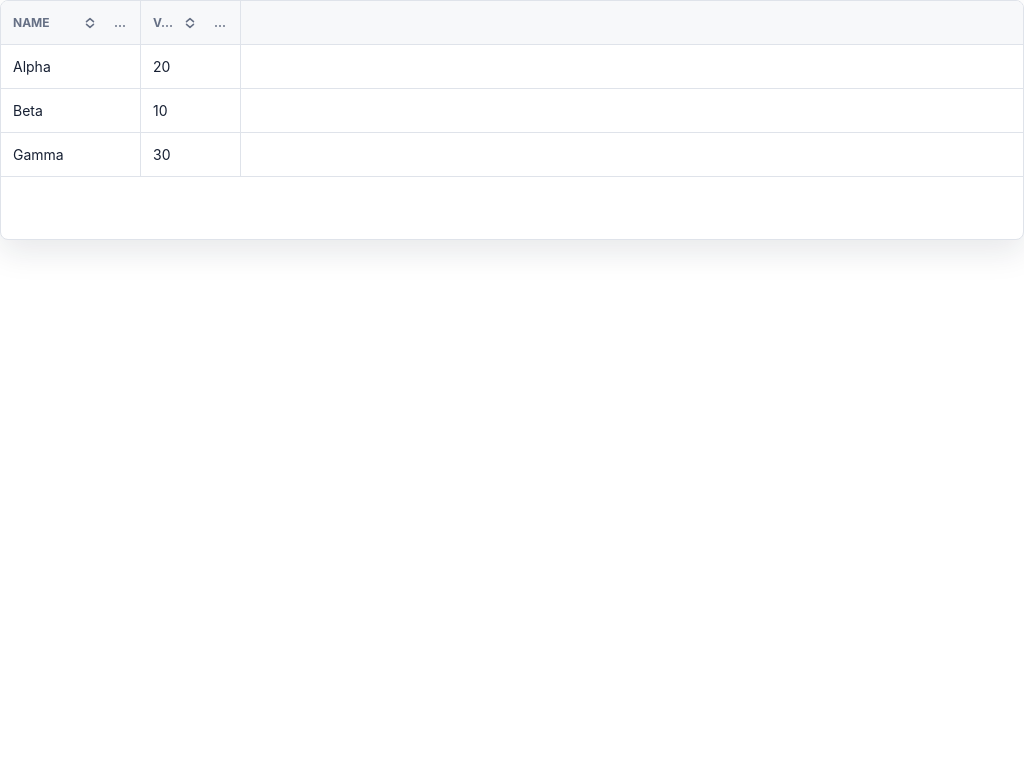
Test: VirtualTable › applies a number comparison filter from the column menu
Right-click the button named "sort value ascending" at (190, 22), box x1=178 y1=10 x2=202 y2=34
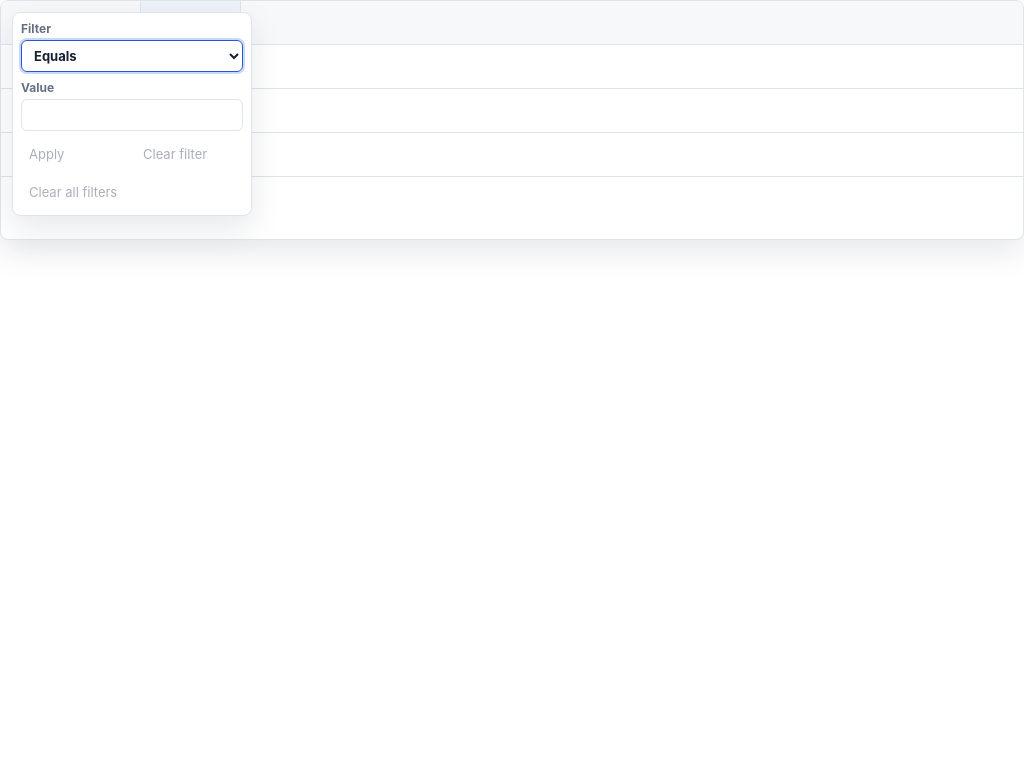
Select "Greater than or equal" in the dropdown labelled "Filter" at (132, 56), box x1=21 y1=40 x2=243 y2=72
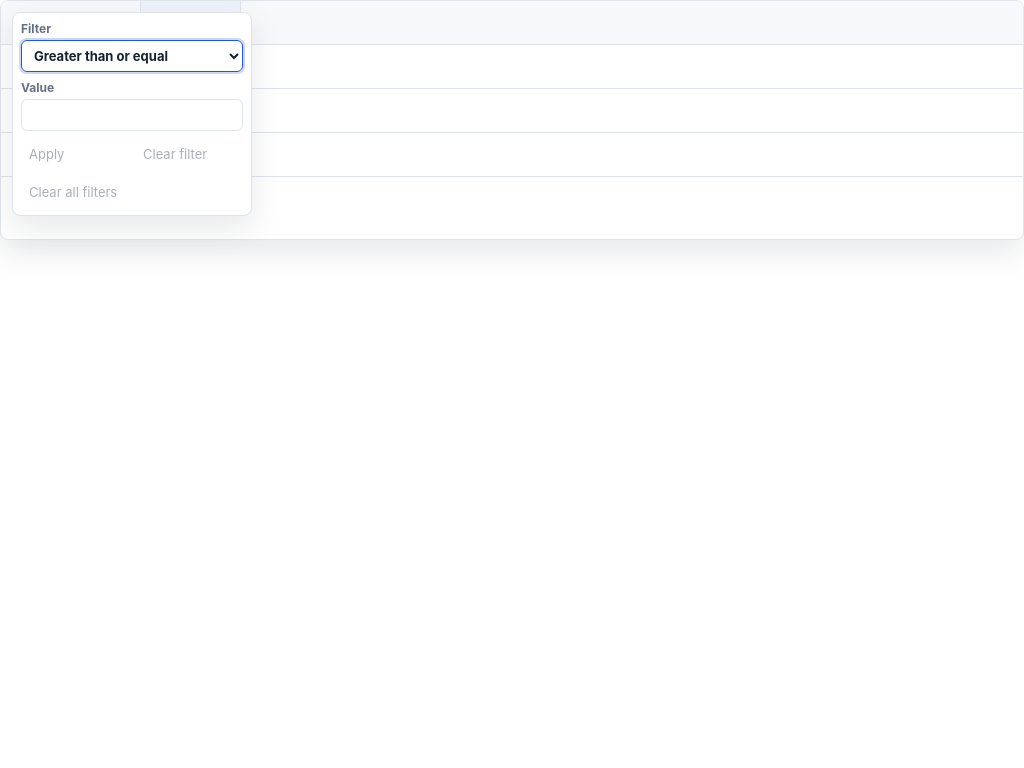
Type "20" into the number field labelled "Value" at (132, 115), box x1=21 y1=99 x2=243 y2=131
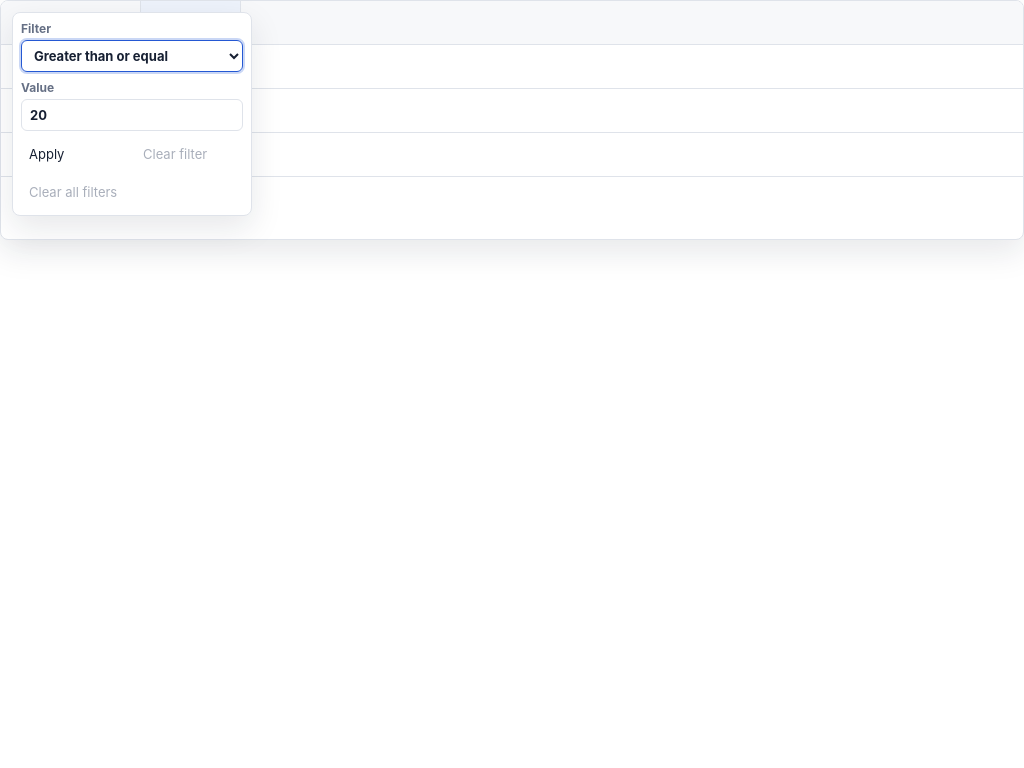
Click the button "Apply" at (75, 154), box x1=21 y1=139 x2=129 y2=169
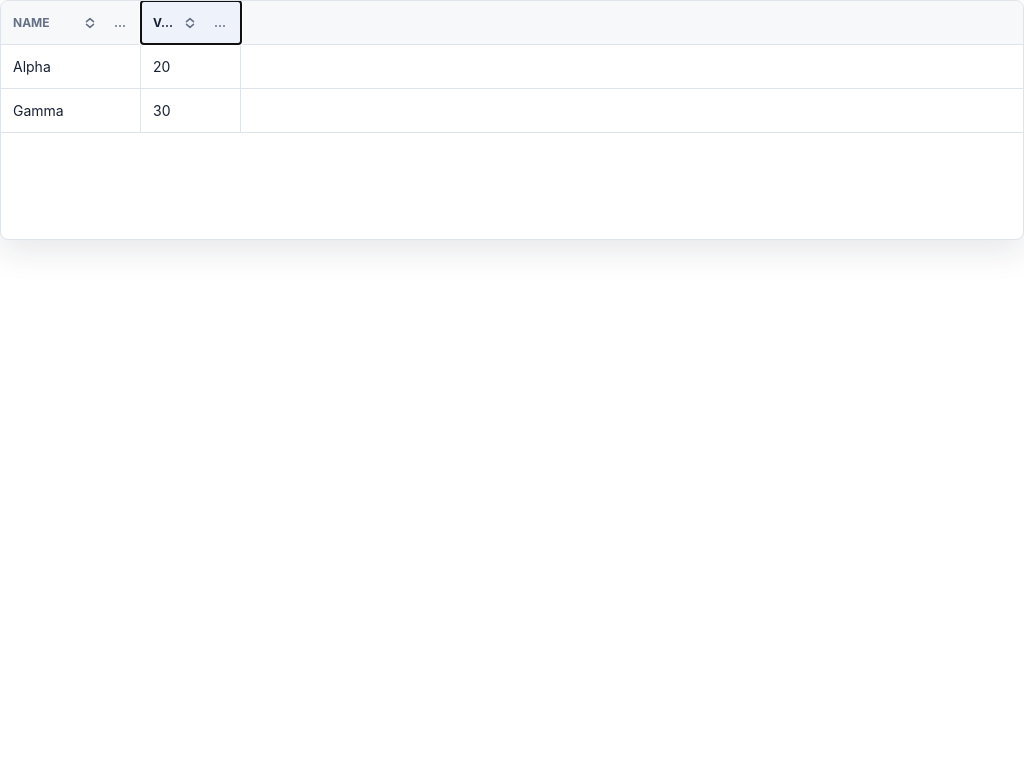
Check: the text "Alpha" is shown, box x1=1 y1=45 x2=141 y2=88
Check: the text "Beta" is gone
